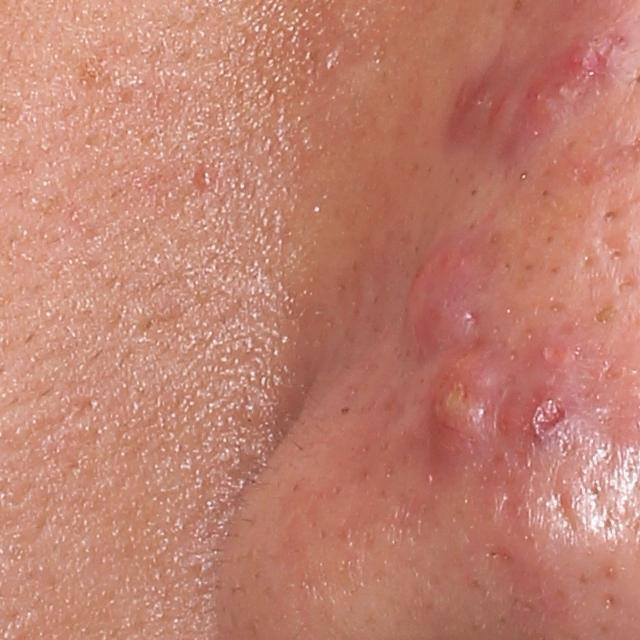comedo: (191, 161, 219, 189), (597, 204, 622, 226)
papule: (522, 25, 632, 143), (431, 340, 513, 464), (512, 388, 591, 458), (455, 75, 508, 135)
